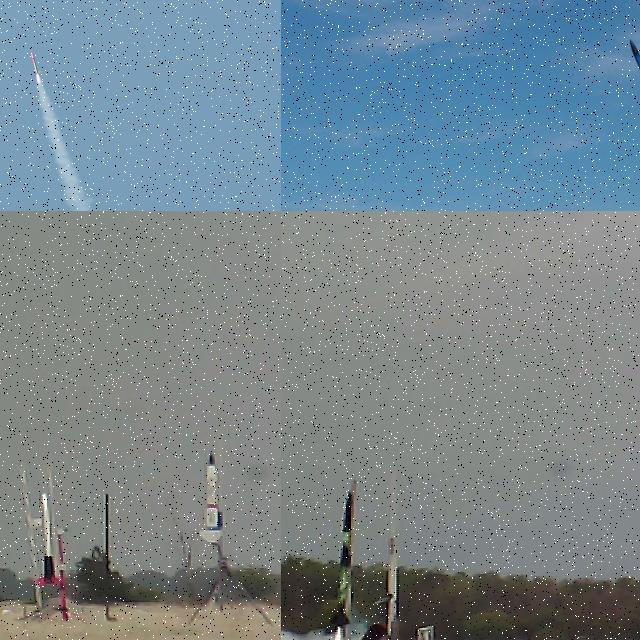Rocket: (330, 489, 354, 626), (197, 452, 224, 544), (37, 492, 62, 586), (629, 39, 640, 114), (30, 51, 42, 75)
